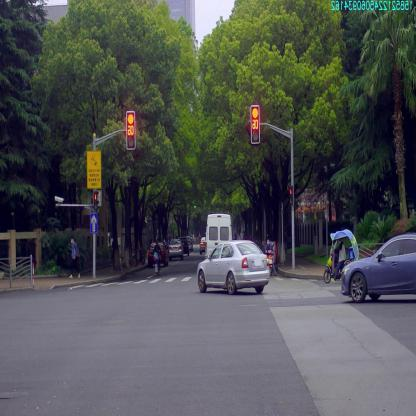traffic-light: (251, 105, 259, 143), (127, 112, 135, 149)
